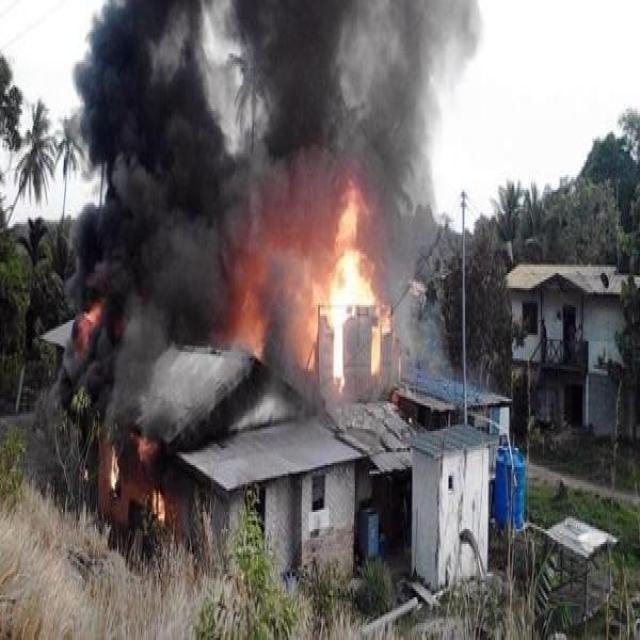Fire: (310, 191, 376, 371), (108, 444, 121, 497), (138, 436, 158, 464), (152, 492, 166, 528)
Smoke: (76, 0, 235, 414), (233, 0, 484, 182)
